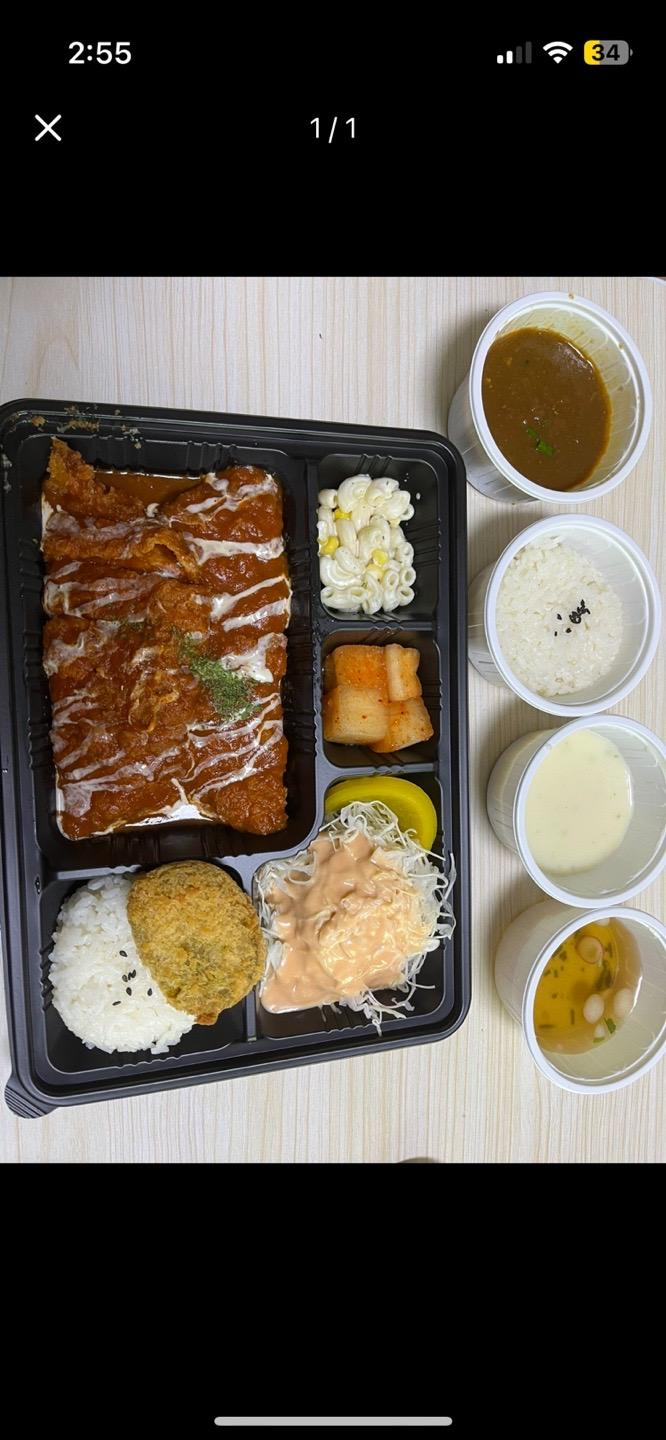Lunch Box: (0, 400, 470, 1115)
cup: (449, 292, 651, 503), (469, 516, 660, 718), (486, 716, 665, 909), (495, 900, 665, 1094)
